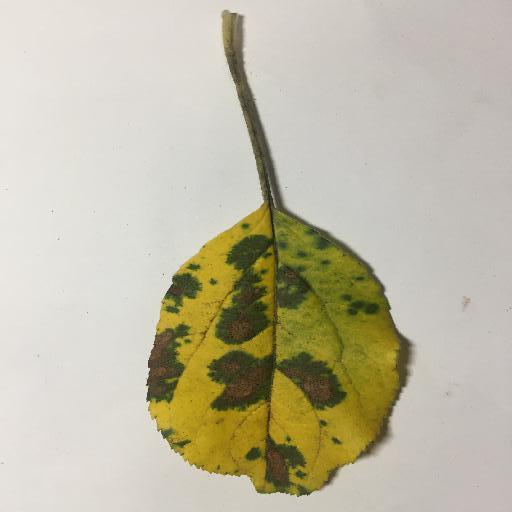Brown_Spot: (211, 357, 267, 403), (286, 365, 339, 402), (225, 291, 264, 334), (149, 330, 164, 402), (267, 451, 290, 486), (284, 266, 304, 285), (172, 284, 190, 295)
